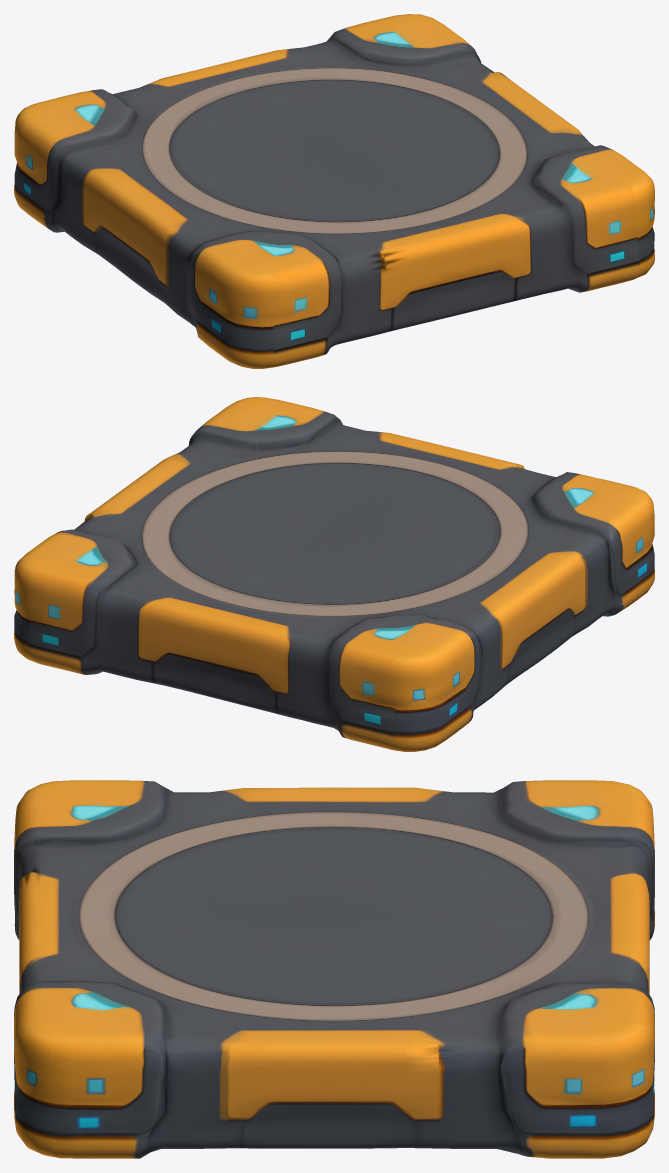
File: Piston Hammer - B_texture.fbx
3 views of the same model, one above another, from view 1: azimuth 30°, elevation 25°; view 2: azimuth 150°, elevation 25°; view 3: azimuth 270°, elevation 25° (orthographic). The views are drawn at different scales.
Parts seen in each view (by area): view 1: Mesh0; view 2: Mesh0; view 3: Mesh0.
Boxes of the visible parts, x1=… form: Mesh0: x1=14, y1=14, x2=654, y2=368; Mesh0: x1=14, y1=397, x2=654, y2=751; Mesh0: x1=14, y1=780, x2=654, y2=1158.
Bounding box in the file's own units: 192 × 40.75 × 192.
Materials: 1 (1 with a texture image).
